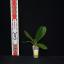leaf: (35, 26, 46, 43), (35, 25, 43, 42), (24, 30, 34, 43), (37, 43, 48, 50), (22, 41, 35, 45)
